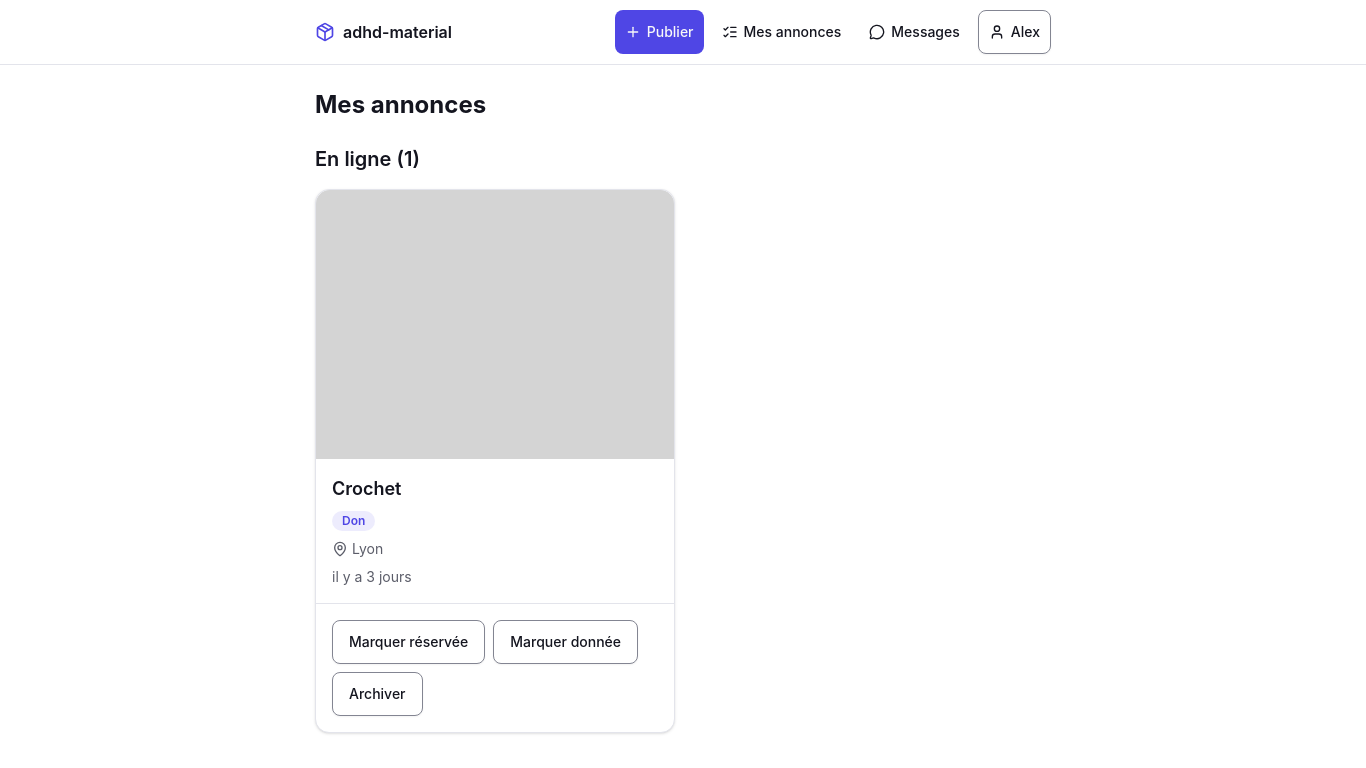
Scenario: Mes annonces › « Marquer donnée » demande confirmation ; Annuler ne change rien et rend le focus au bouton
Click the button with aria-label "Marquer donnée : Crochet, " at [566, 642], box [493,620,638,664]
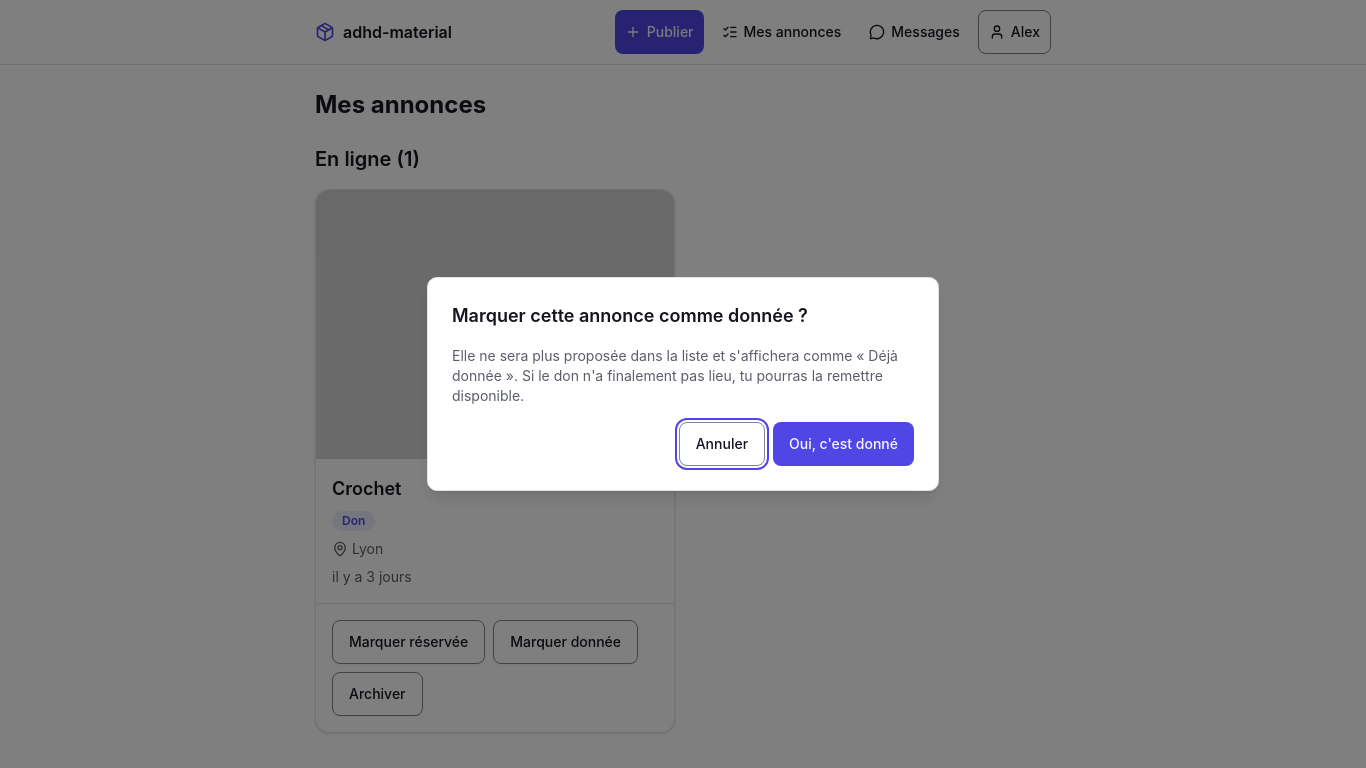
Expected: the dialog "Marquer cette annonce comme donnée ?" shows "Déjà donnée", [452,347,898,404]
Click the button "Annuler" at [722, 444], box [679,422,765,466]
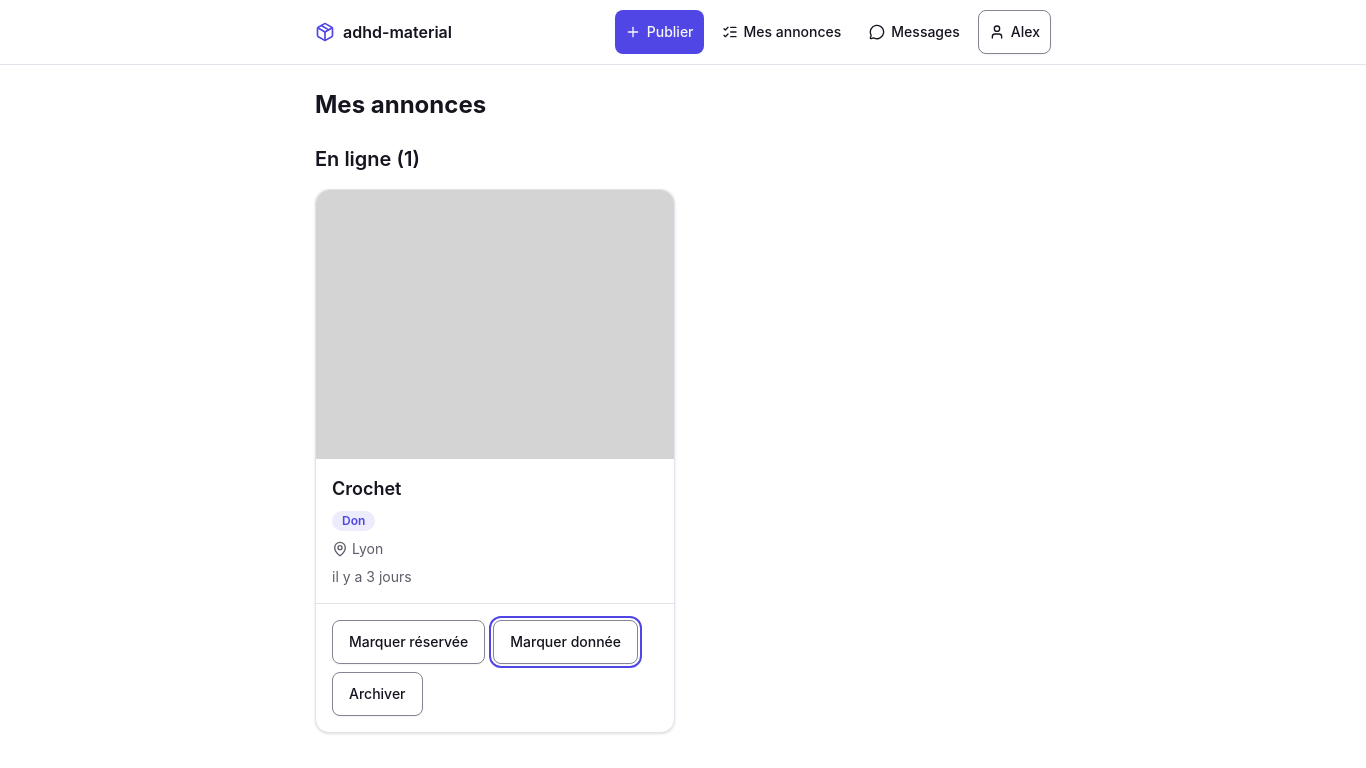
Expected: the dialog is gone
